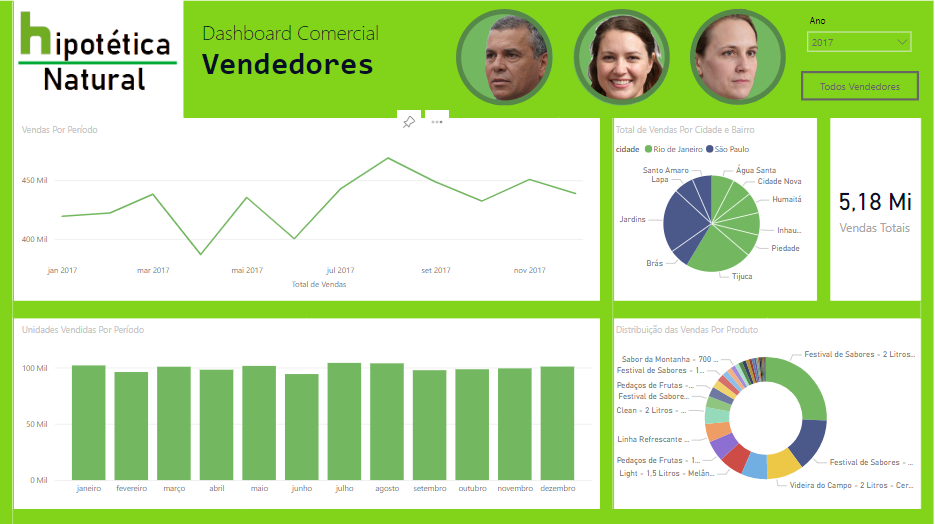

The page's visual inventory and layout, read from the dashboard file:
{"tool":"powerbi","page":{"name":"Página 3","canvas":[1280,720],"ordinal":0},"visuals":[{"type":"image","box":[0,0,1281,722.2],"z":0},{"type":"textbox","box":[276.5,24.5,341.3,126.7],"z":1000},{"type":"shape","box":[627.8,16.3,130,130],"z":2000},{"type":"image","box":[628,16,152.5,139.2],"z":3000},{"type":"shape","box":[626.9,16.4,131.3,131.3],"z":4000},{"type":"shape","box":[785.6,17.1,130.6,129.9],"z":5000},{"type":"image","box":[787.8,17.1,138.8,134.3],"z":6000},{"type":"shape","box":[786.3,16.4,129.9,129.9],"z":7000},{"type":"shape","box":[943.8,15.7,130,130],"z":8000},{"type":"image","box":[893.1,8.6,202.1,145],"z":9000},{"type":"shape","box":[943.8,15.7,130,130],"z":10000},{"type":"slicer","title":"Segmentação de Dados","fields":{"Values":["Consulta1.DATA_VENDA.Variation.Hierarquia de datas.Ano"]},"box":[1093,18.7,161.3,82.1],"z":11000},{"type":"lineChart","title":"Vendas Por Período","fields":{"Category":["Consulta1.DATA_VENDA.Variation.Hierarquia de datas.Ano","Consulta1.DATA_VENDA.Variation.Hierarquia de datas.Mês"],"Y":["Sum(Consulta1.valor)"]},"box":[33.1,171.4,783.4,230.4],"z":11001},{"type":"clusteredColumnChart","title":"Unidades Vendidas Por Período","fields":{"Y":["Sum(Consulta1.quantidade)"],"Category":["Consulta1.DATA_VENDA.Variation.Hierarquia de datas.Ano","Consulta1.DATA_VENDA.Variation.Hierarquia de datas.Mês"]},"box":[33.1,442.1,783.4,241.9],"z":11002},{"type":"card","fields":{"Values":["Sum(Consulta1.valor)"]},"box":[1133.9,171.3,120.9,230.1],"z":11003},{"type":"donutChart","title":"Distribuição das Vendas Por Produto","fields":{"Category":["Consulta1.NOME_DO_PRODUTO"],"Y":["Sum(Consulta1.valor)"]},"box":[838.2,441.8,416.6,241.9],"z":11004},{"type":"pieChart","title":"Total de Vendas Por Cidade e Bairro","fields":{"Category":["Consulta1.cidade"],"Y":["Sum(Consulta1.valor)"],"Series":["Consulta1.bairro"]},"box":[838.2,171.3,270.4,230.1],"z":11005},{"type":"actionButton","box":[1094.4,100.8,159.8,40.3],"z":11006}]}

Visuals, with their boxes in screenshot pixels (x1, y1, x2, y2), scaled from the page's 1280x720 canvas onto the 935x524 screenshot:
image: bbox=[0, 0, 934, 523]
textbox: bbox=[202, 18, 451, 110]
shape: bbox=[459, 12, 554, 106]
image: bbox=[459, 12, 570, 113]
shape: bbox=[458, 12, 554, 107]
shape: bbox=[574, 12, 669, 107]
image: bbox=[575, 12, 677, 110]
shape: bbox=[574, 12, 669, 106]
shape: bbox=[689, 11, 784, 106]
image: bbox=[652, 6, 800, 112]
shape: bbox=[689, 11, 784, 106]
"Segmentação de Dados" slicer: bbox=[798, 14, 916, 73]
"Vendas Por Período" lineChart: bbox=[24, 125, 596, 292]
"Unidades Vendidas Por Período" clusteredColumnChart: bbox=[24, 322, 596, 498]
card - Sum(Consulta1.valor): bbox=[828, 125, 917, 292]
"Distribuição das Vendas Por Produto" donutChart: bbox=[612, 322, 917, 498]
"Total de Vendas Por Cidade e Bairro" pieChart: bbox=[612, 125, 810, 292]
actionButton: bbox=[799, 73, 916, 103]
